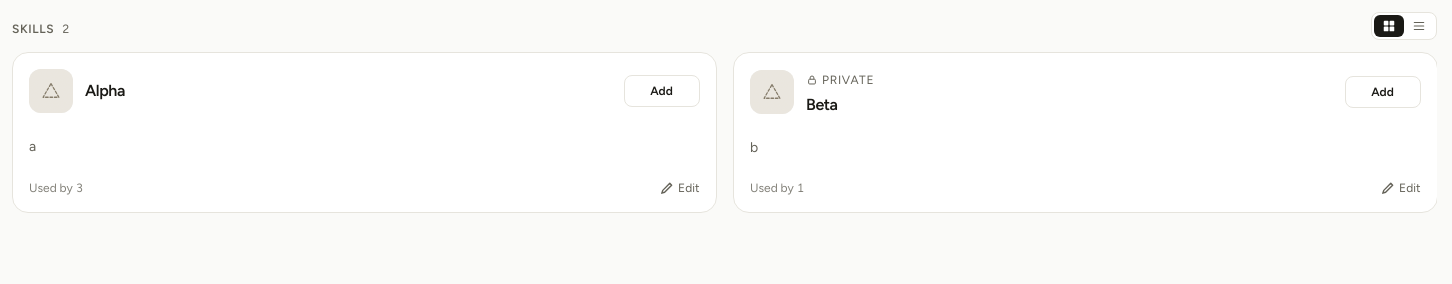
Test case: ProfileSkillsManager: bulk actions › partial failure reverts only the failed row and keeps it selected
What coordinates should you click on to do the following:
click the button named "list"
I would click on:
 (1419, 26)
Its box is x1=1404 y1=15 x2=1434 y2=37.
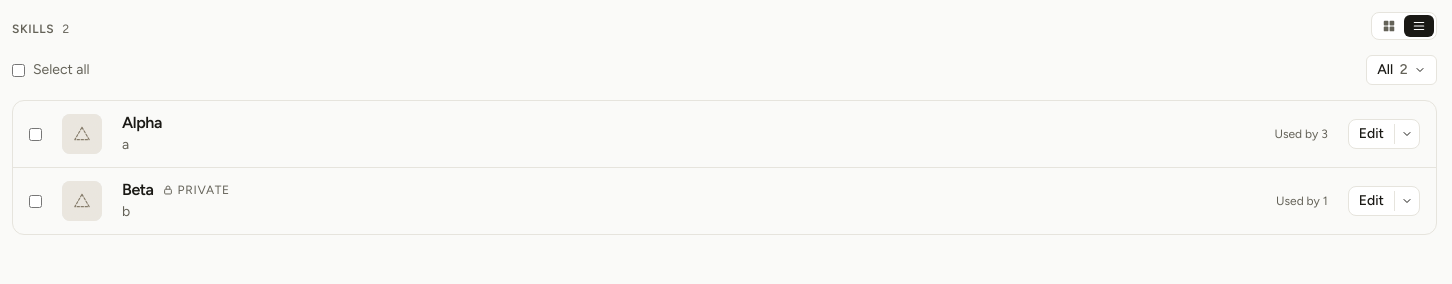
What coordinates should you click on to do the following:
click the checkbox named "Select all skills"
I would click on:
 (18, 70)
Its box is x1=12 y1=64 x2=25 y2=76.
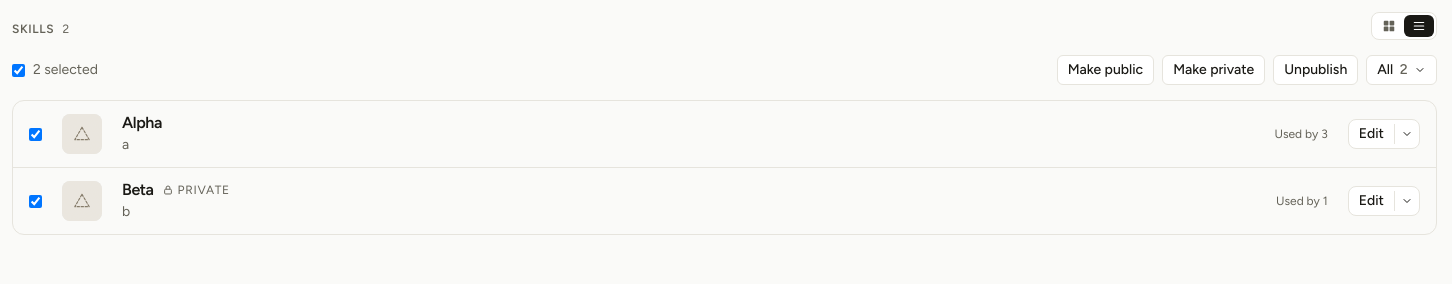
What coordinates should you click on to do the following:
click the button "Make private"
I would click on:
 (1214, 70)
Its box is x1=1162 y1=55 x2=1265 y2=85.
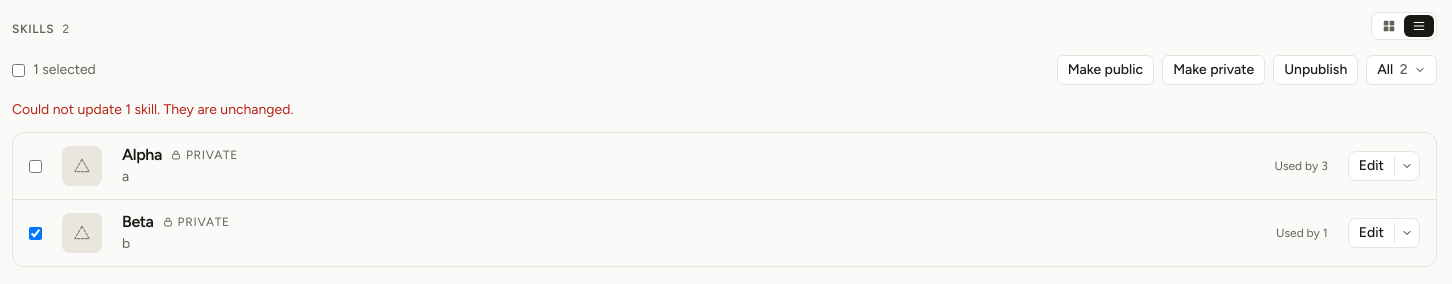
Now the checkbox named "Select Beta" is checked, box x1=29 y1=227 x2=42 y2=240
Now the message shows "Could not update 1 skill", box x1=12 y1=101 x2=293 y2=118
Now the checkbox named "Select Alpha" is not checked, box x1=29 y1=160 x2=42 y2=173
